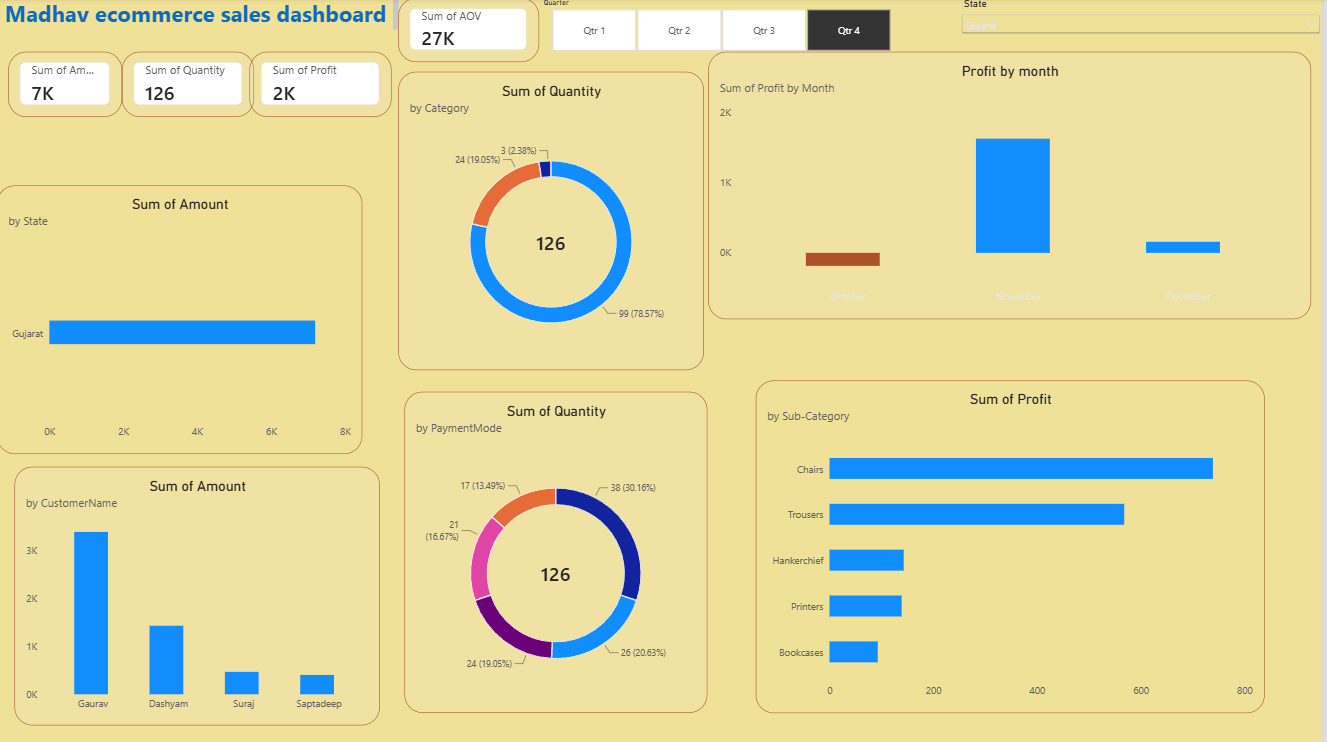

The page's visual inventory and layout, read from the dashboard file:
{"tool":"powerbi","page":{"name":"Page 2","canvas":[1920,1080],"ordinal":0},"visuals":[{"type":"textbox","box":[10,0,280,280],"z":0},{"type":"textbox","box":[10.3,0,570.2,78.2],"z":1000},{"type":"columnChart","title":"Profit by month","fields":{"Category":["Orders.Order Date.Variation.Date Hierarchy.Month"],"Y":["Sum(Details.Profit)"]},"box":[1029.2,78.2,872.7,387],"z":2000},{"type":"barChart","fields":{"Category":["Details.Sub-Category"],"Y":["Sum(Details.Profit)"]},"box":[1099.1,553.7,736.9,481.6],"z":3000},{"type":"donutChart","fields":{"Category":["Details.Category"],"Y":["Sum(Details.Quantity)"]},"box":[580.4,107,442.5,432.2],"z":4000},{"type":"donutChart","fields":{"Category":["Details.PaymentMode"],"Y":["Sum(Details.Quantity)"]},"box":[590.7,570.2,438.4,465.2],"z":5000},{"type":"cardVisual","fields":{"Data":["Sum(Details.Amount)"]},"box":[16.5,78.2,164.7,94.7],"z":6000},{"type":"cardVisual","fields":{"Data":["Sum(Details.Quantity)"]},"box":[181.1,78.2,191.4,94.7],"z":7000},{"type":"cardVisual","fields":{"Data":["Sum(Details.Profit)"]},"box":[366.4,78.2,205.8,94.7],"z":8000},{"type":"cardVisual","fields":{"Data":["Sum(Details.AOV)"]},"box":[580.4,0,203.8,92.6],"z":9000},{"type":"barChart","fields":{"Category":["Orders.State"],"Y":["Sum(Details.Amount)"]},"box":[0,271.7,529,389],"z":10000},{"type":"columnChart","fields":{"Category":["Orders.CustomerName"],"Y":["Sum(Details.Amount)"]},"box":[24.7,679.2,529,374.6],"z":11000},{"type":"slicer","fields":{"Values":["Orders.Order Date.Variation.Date Hierarchy.Quarter"]},"box":[784.2,0,529,78.2],"z":12000},{"type":"slicer","fields":{"Values":["Orders.State"]},"box":[1391.4,0,529,92.6],"z":12001}]}

Visuals, with their boxes in screenshot pixels (x1, y1, x2, y2), scaled from the page's 1920x1080 canvas onto the 1327x742 screenshot:
textbox: bbox=[7, 0, 200, 192]
textbox: bbox=[7, 0, 401, 54]
"Profit by month" columnChart: bbox=[711, 54, 1314, 320]
barChart - Details.Sub-Category x Sum(Details.Profit): bbox=[760, 380, 1269, 711]
donutChart - Details.Category x Sum(Details.Quantity): bbox=[401, 74, 707, 370]
donutChart - Details.PaymentMode x Sum(Details.Quantity): bbox=[408, 392, 711, 711]
cardVisual - Sum(Details.Amount): bbox=[11, 54, 125, 119]
cardVisual - Sum(Details.Quantity): bbox=[125, 54, 257, 119]
cardVisual - Sum(Details.Profit): bbox=[253, 54, 395, 119]
cardVisual - Sum(Details.AOV): bbox=[401, 0, 542, 64]
barChart - Orders.State x Sum(Details.Amount): bbox=[0, 187, 366, 454]
columnChart - Orders.CustomerName x Sum(Details.Amount): bbox=[17, 467, 383, 724]
slicer - Orders.Order Date.Variation.Date Hierarchy.Quarter: bbox=[542, 0, 908, 54]
slicer - Orders.State: bbox=[962, 0, 1326, 64]
